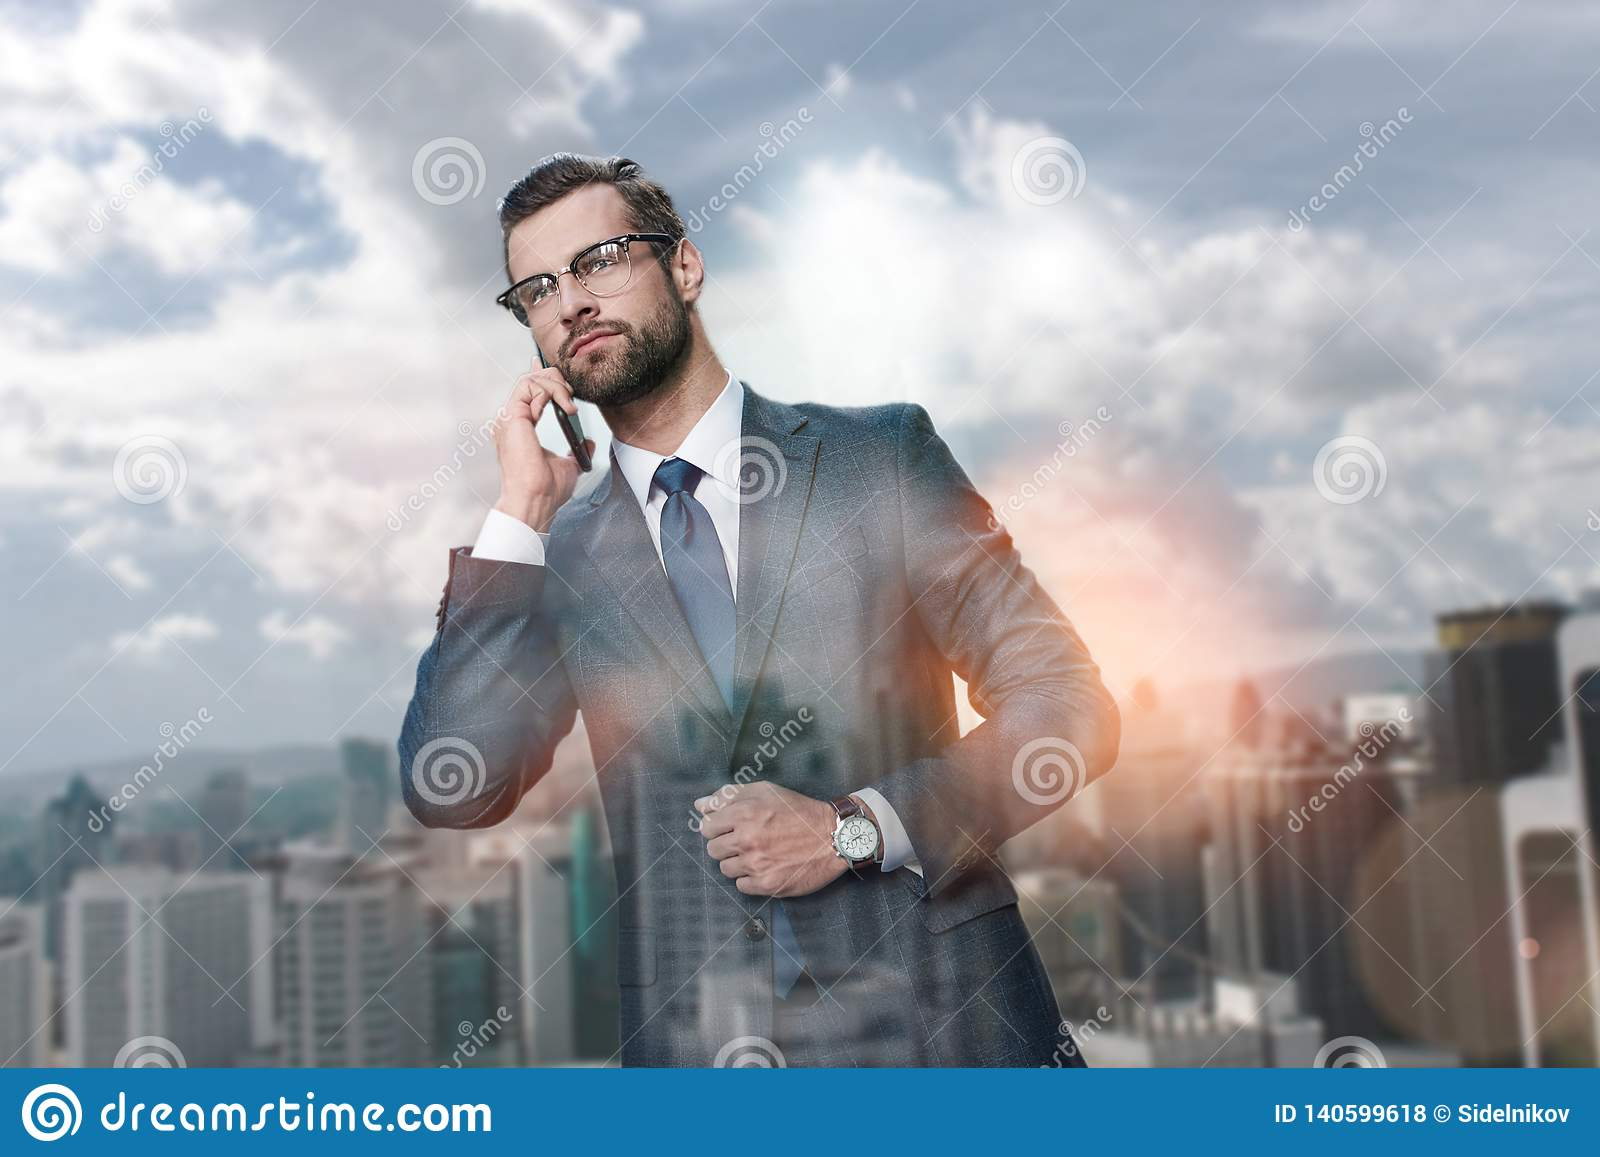phone: (530, 334, 596, 475)
talk: (497, 229, 684, 517)
